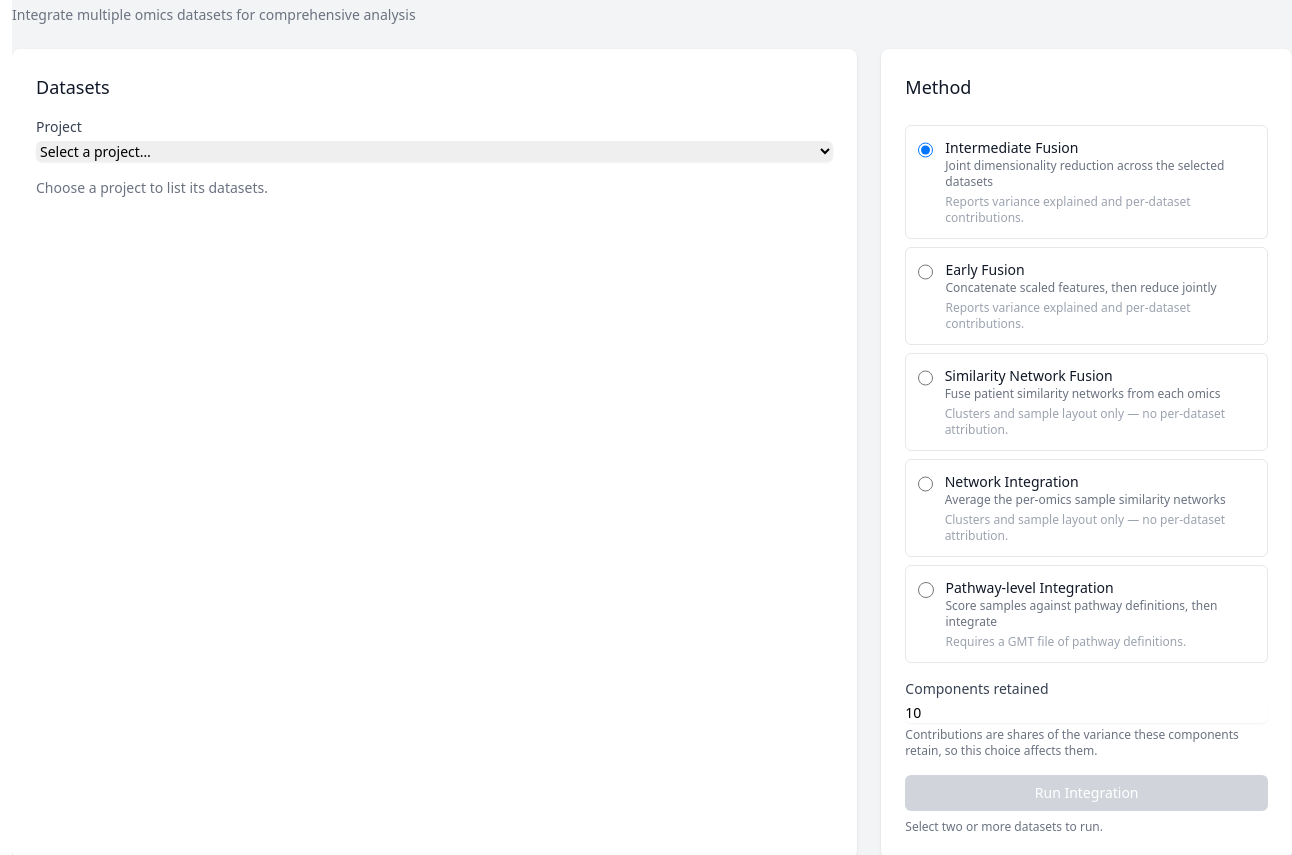
Test case: Integration page › warns when the contribution basis is only a feature-count proxy
This screenshot has width=1292, height=855.
Select "Cohort A" in the dropdown labelled "Project" at {"x": 435, "y": 152}, box [36,141,833,162]
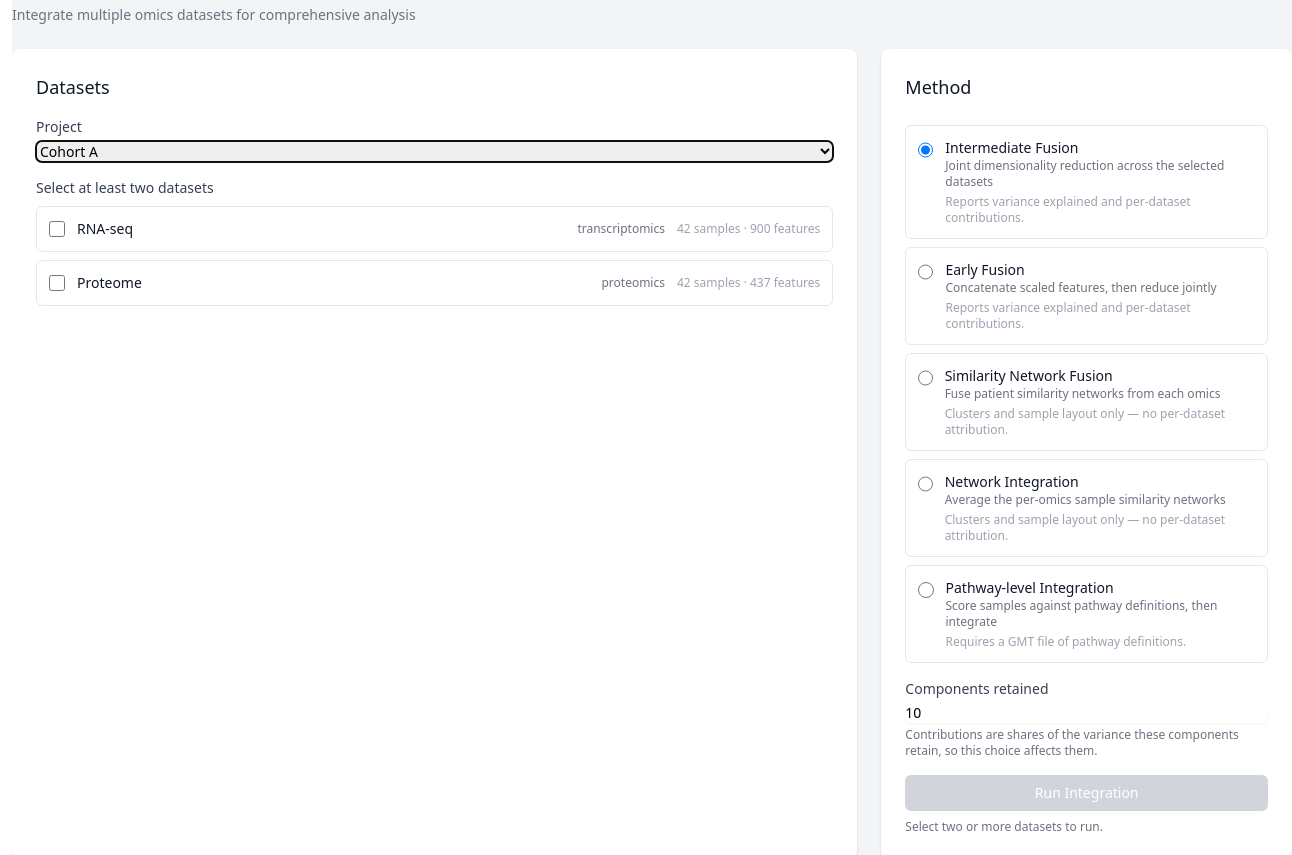
Click the checkbox labelled "RNA-seq transcriptomics 42 samples · 900 features" at {"x": 57, "y": 229}, box [49,221,65,237]
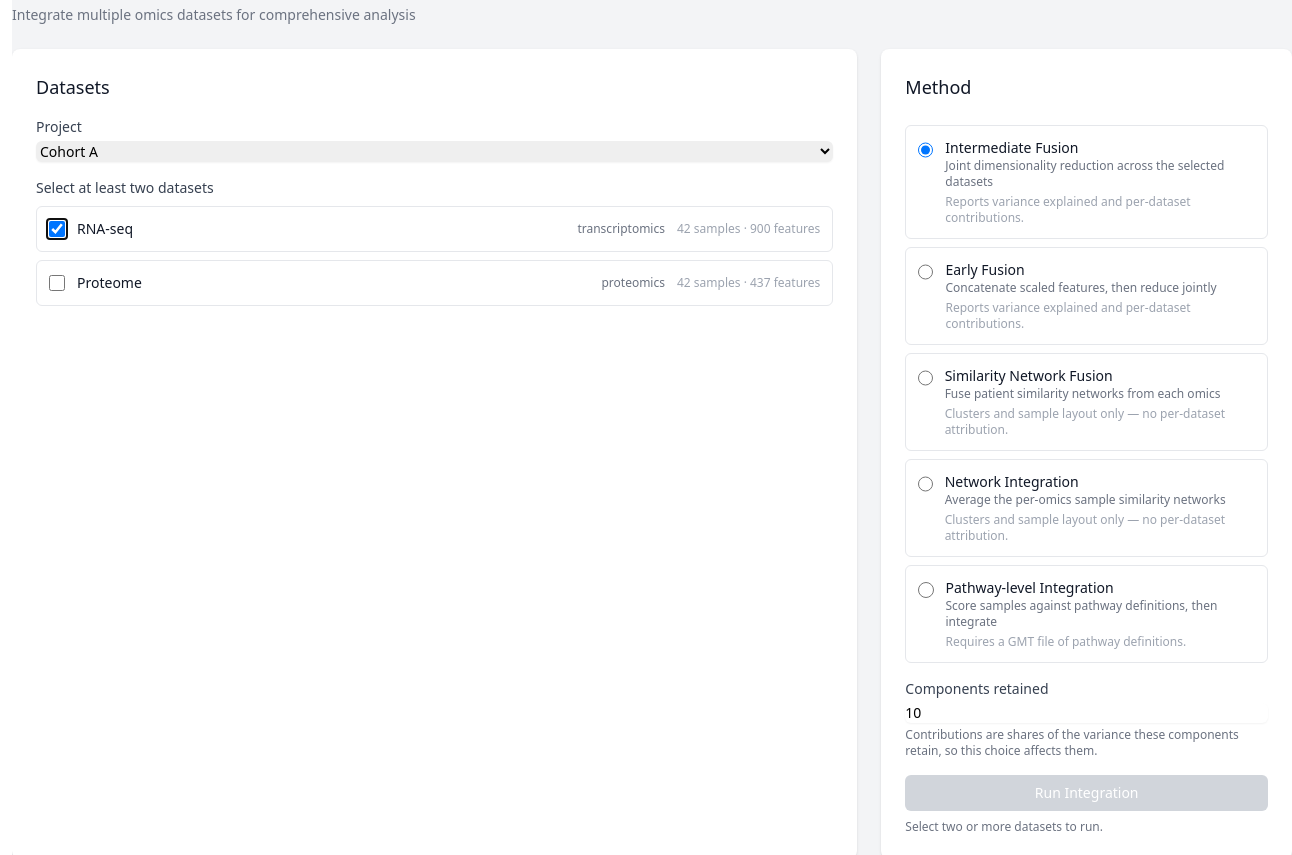
Click the checkbox labelled "Proteome proteomics 42 samples · 437 features" at {"x": 57, "y": 283}, box [49,275,65,291]
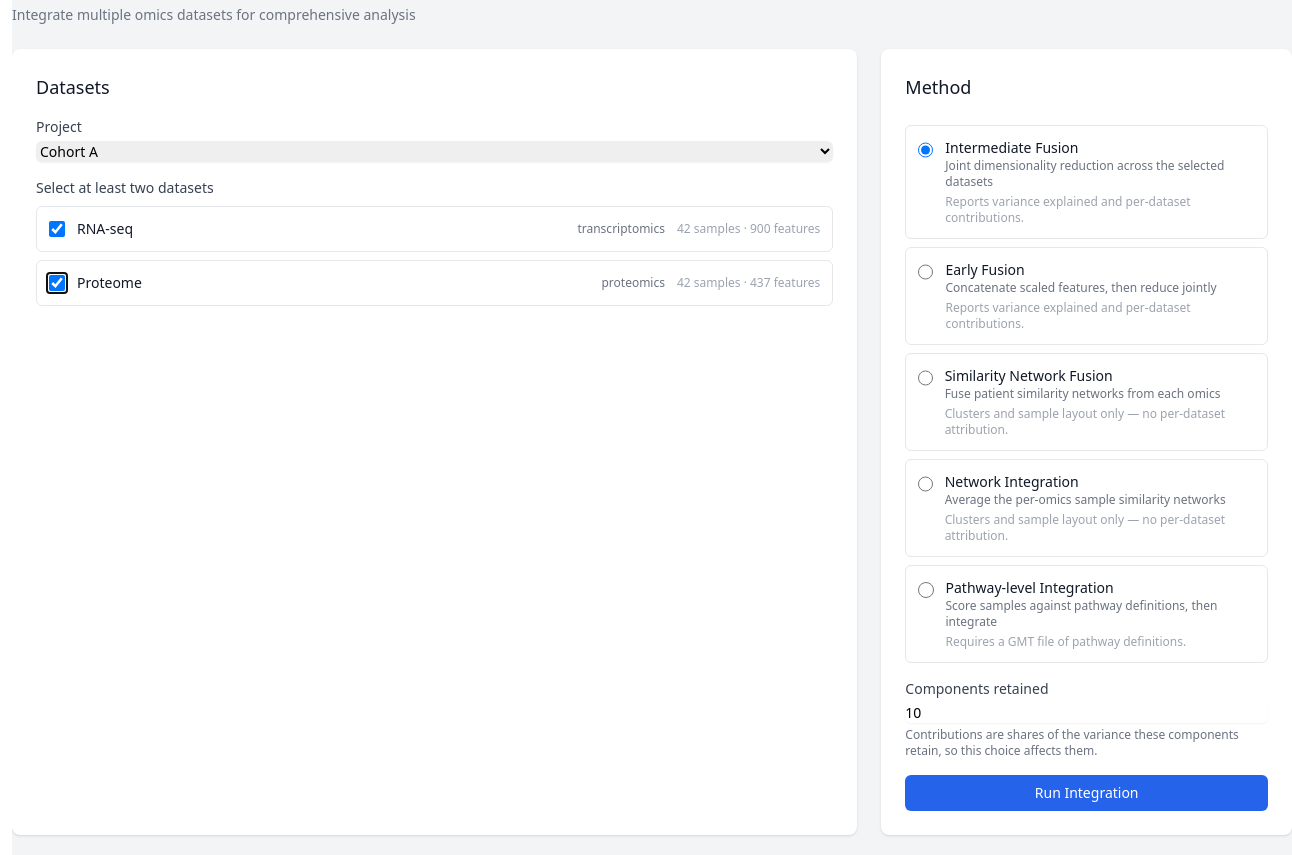
Click the button "Run Integration" at {"x": 1087, "y": 793}, box [905,775,1268,811]
(page scrolled)
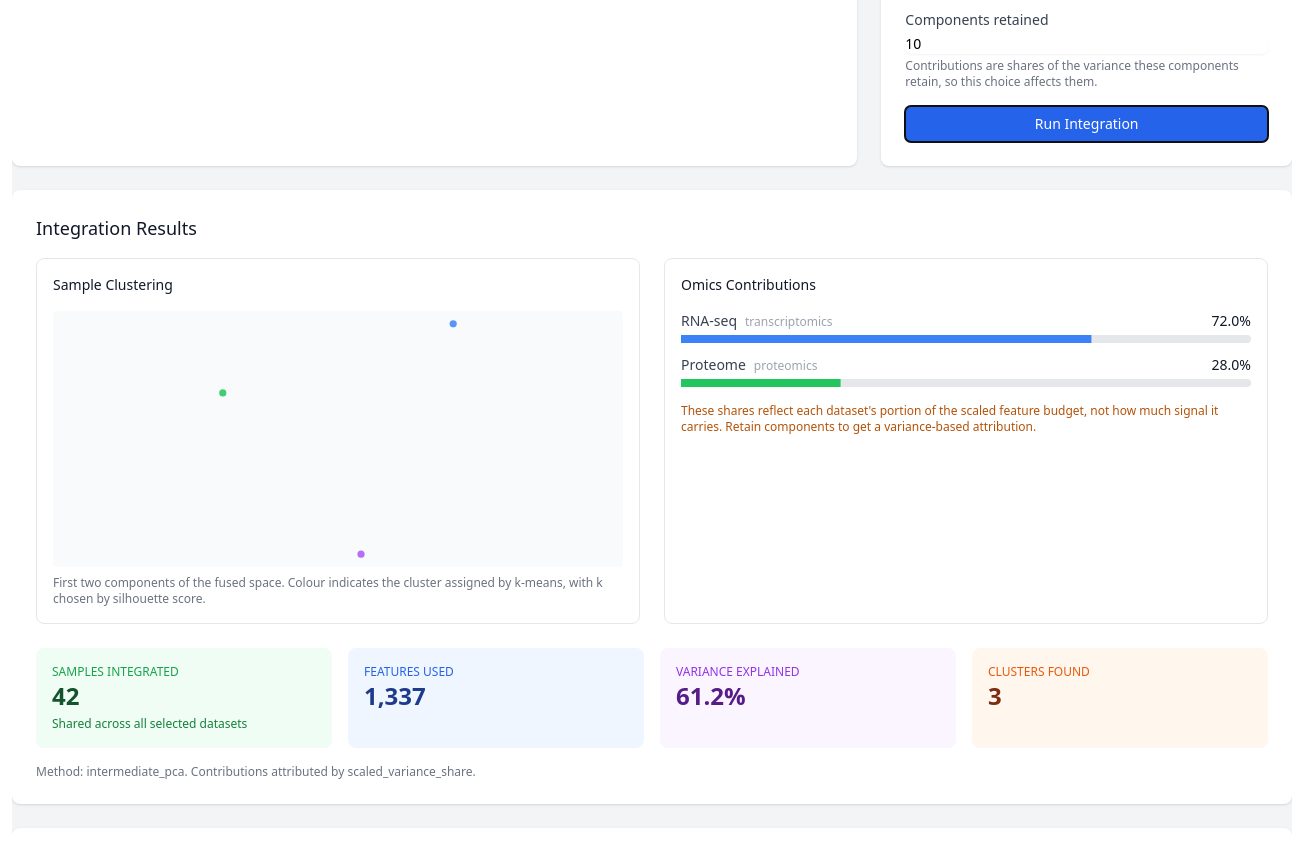
Expected: the heading "Integration Results" is shown, [36,216,197,240]
